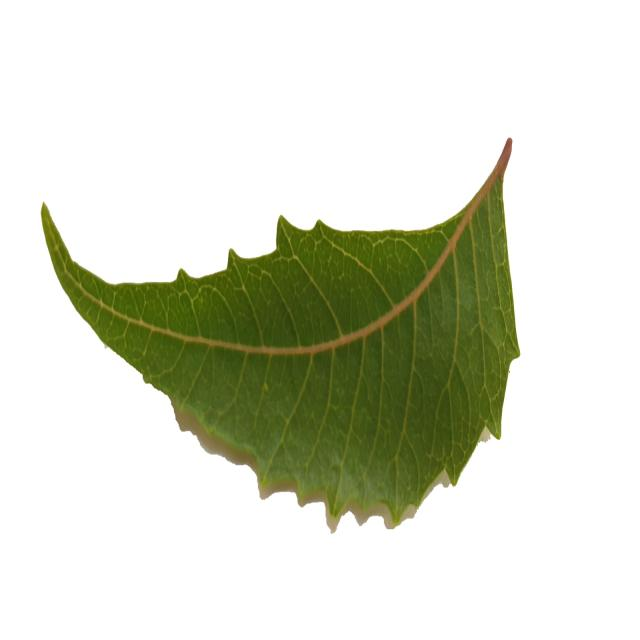Medicinal-Neem: (41, 142, 522, 528)
